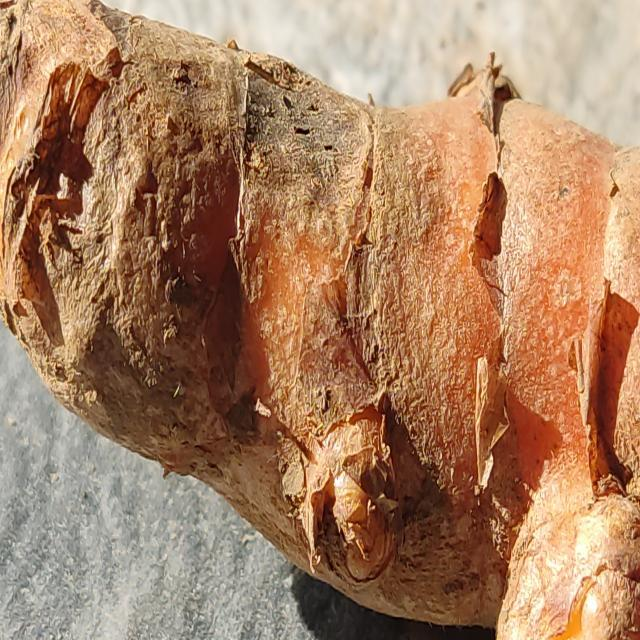ginger: (8, 0, 640, 588)
